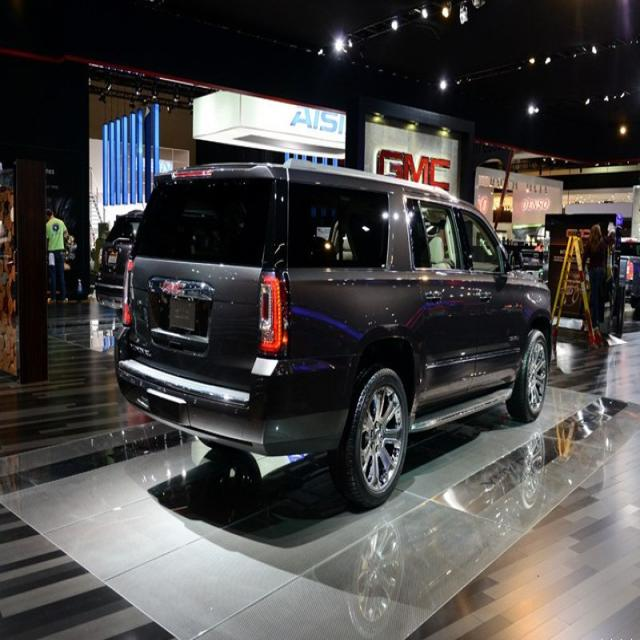back_glass: (120, 162, 294, 279)
back_left_side_light: (112, 255, 149, 343)
back_right_side_light: (254, 266, 292, 366)
door: (398, 193, 478, 413)
front_right_side_door: (438, 193, 509, 398)
front_right_side_mirror: (495, 234, 518, 276)
rear_bumper: (107, 321, 290, 467)
wheel: (346, 364, 414, 509), (512, 325, 554, 434)
